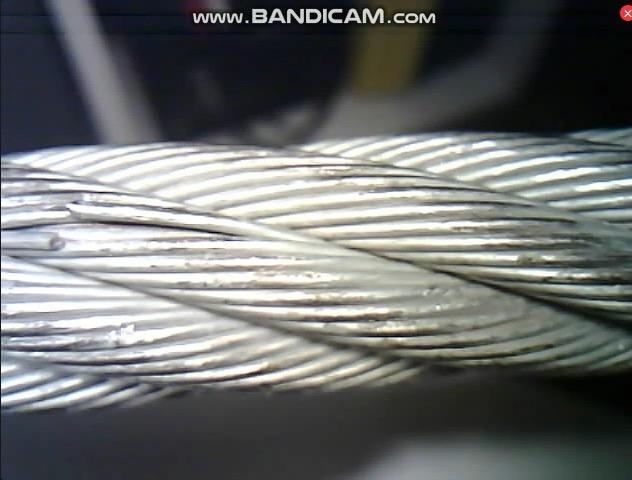break: (25, 191, 92, 260)
